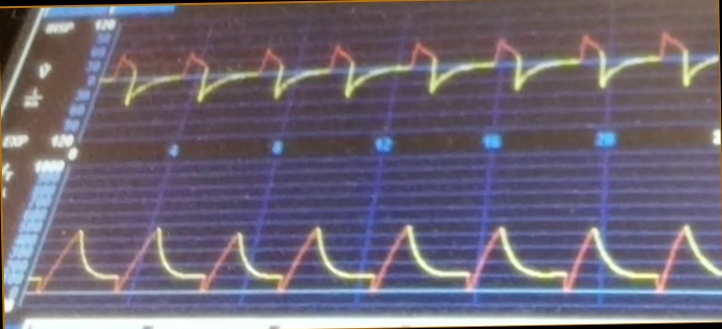Flow: (114, 26, 715, 130)
Leakage Volume: (52, 203, 718, 311)
